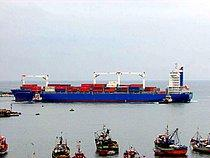Ship: (7, 67, 169, 107)
